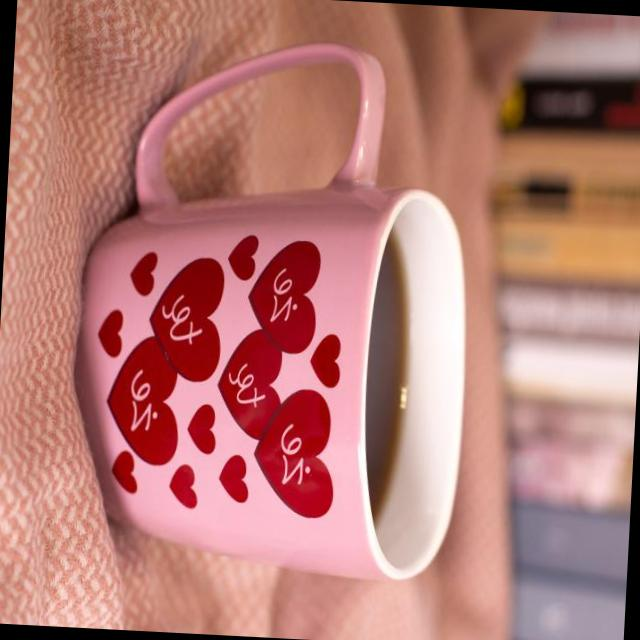Coffee Mug: (64, 31, 484, 583)
